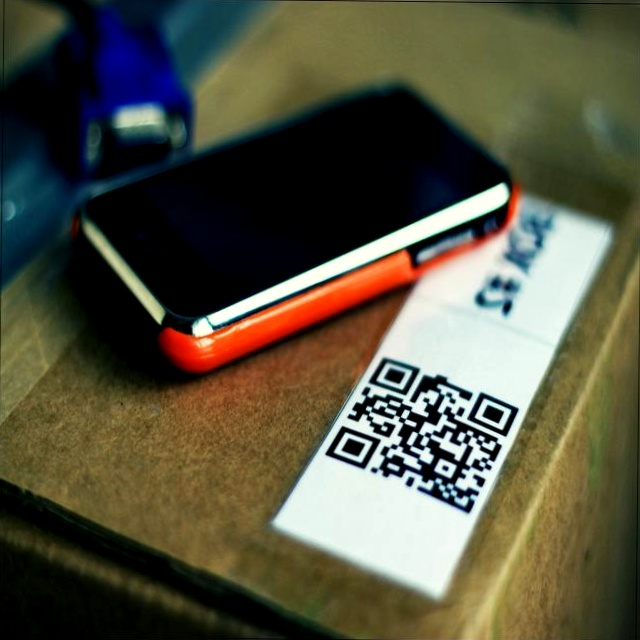qr-code: (325, 356, 520, 515)
